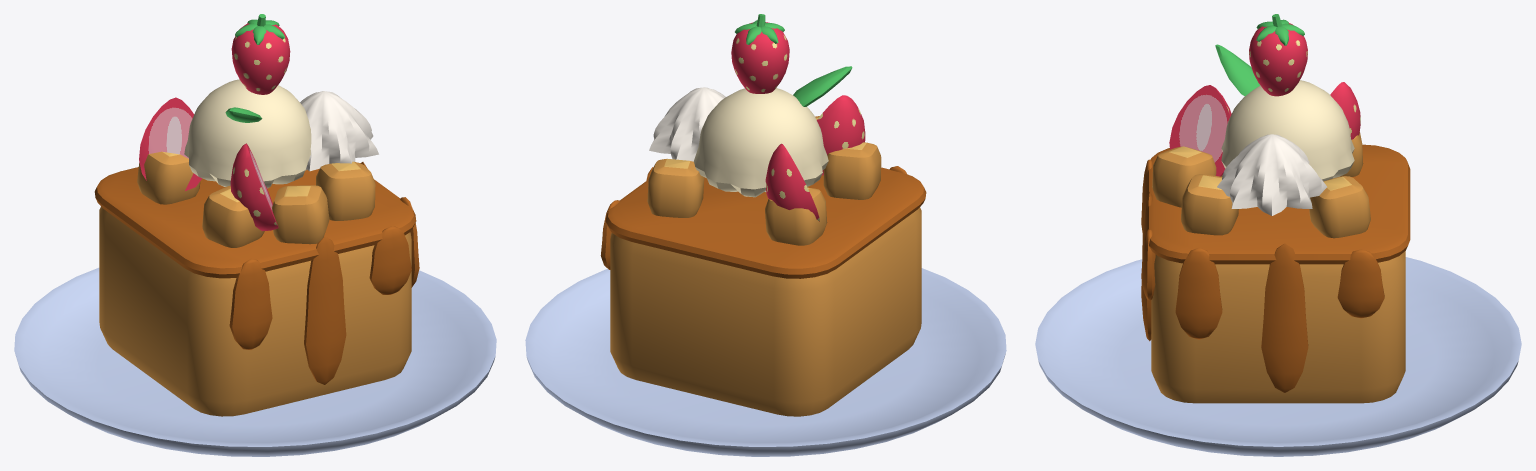
The model's file is ShibuyaToast.glb.
3 renders of one model, left to right at view 1: azimuth 30°, elevation 25°; view 2: azimuth 150°, elevation 25°; view 3: azimuth 270°, elevation 25°, orthographic.
Parts seen in each view (by area): view 1: ShibuyaToast; view 2: ShibuyaToast; view 3: ShibuyaToast.
Part boxes in pixels (x1=…): ShibuyaToast: x1=14, y1=14, x2=496, y2=456; ShibuyaToast: x1=525, y1=14, x2=1006, y2=456; ShibuyaToast: x1=1035, y1=14, x2=1521, y2=456.
Size of the model in its own units: 1.53 by 1.27 by 1.53.
10 materials, 10 textured.
